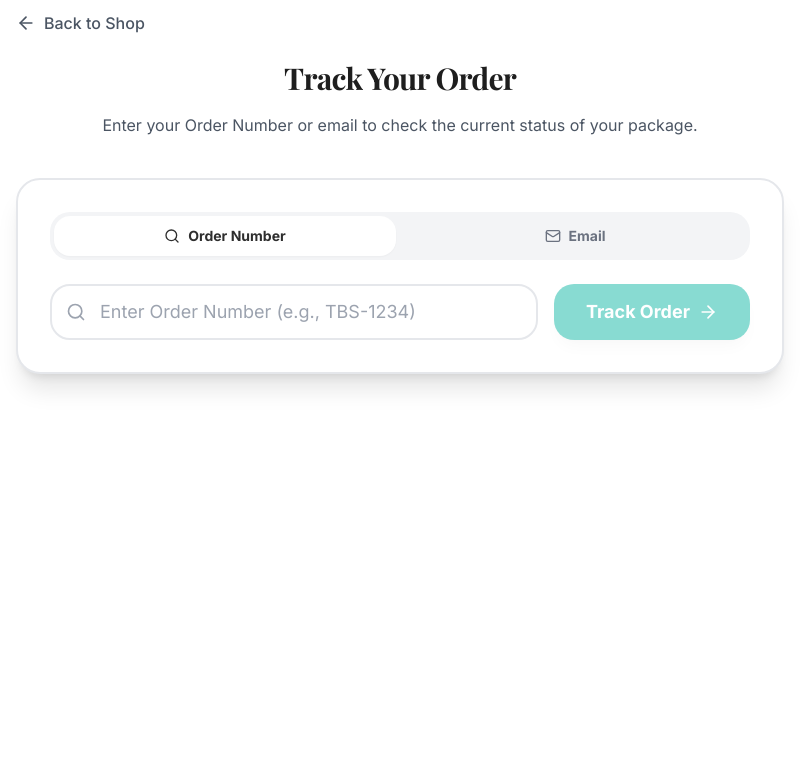
OrderTracking › additional payment › shows the under-review message once a balance receipt is submitted
Type "TBS-1234" into the field with placeholder "Enter Order Number (e.g., TBS-1234)" at point(294, 312), box [50, 284, 538, 340]
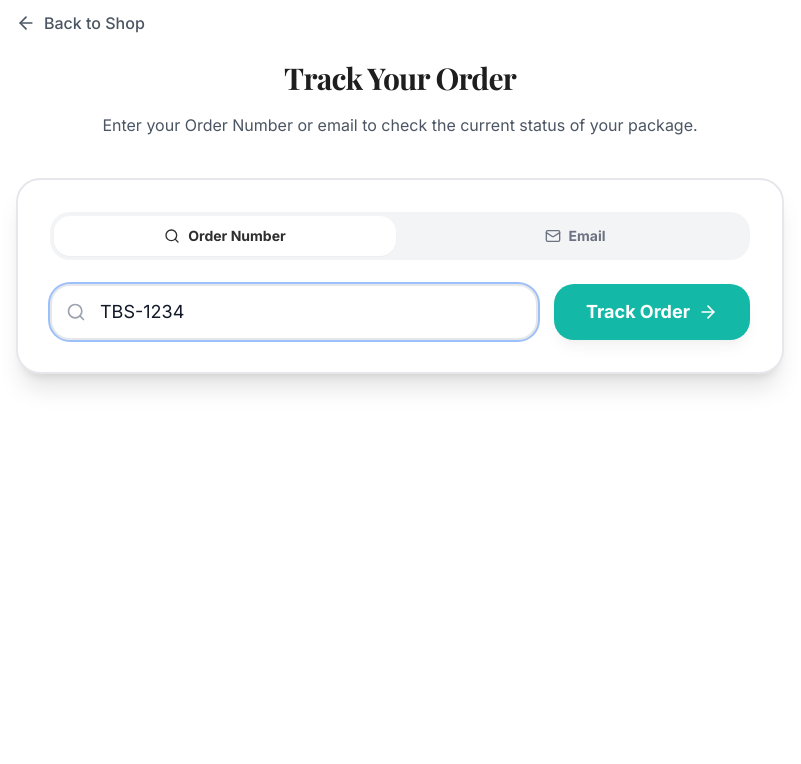
Click the button "Track Order" at point(652, 312), box [554, 284, 750, 340]
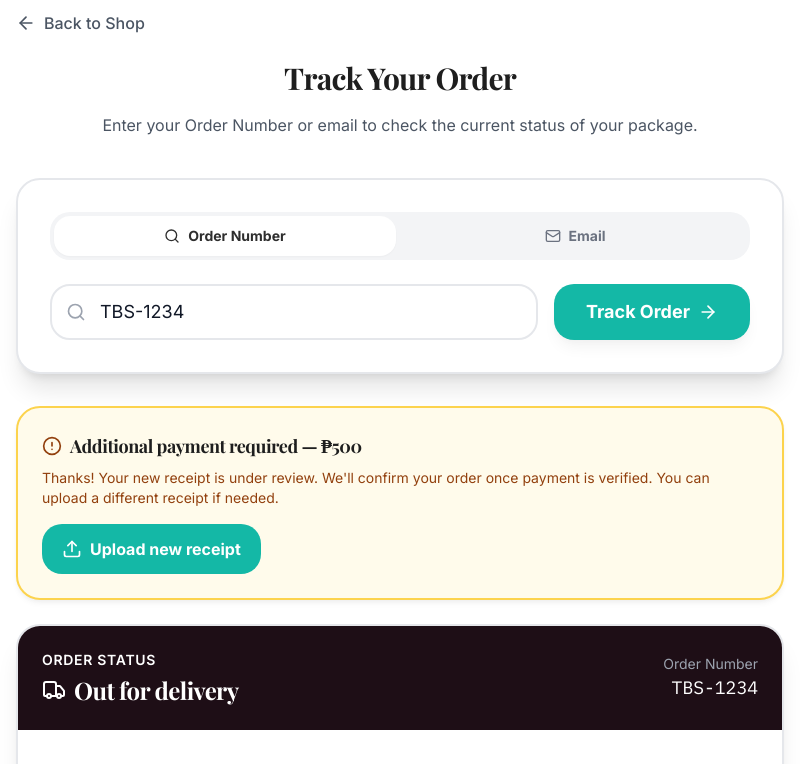
Check: the text "under review" is shown, box [42, 469, 710, 506]
